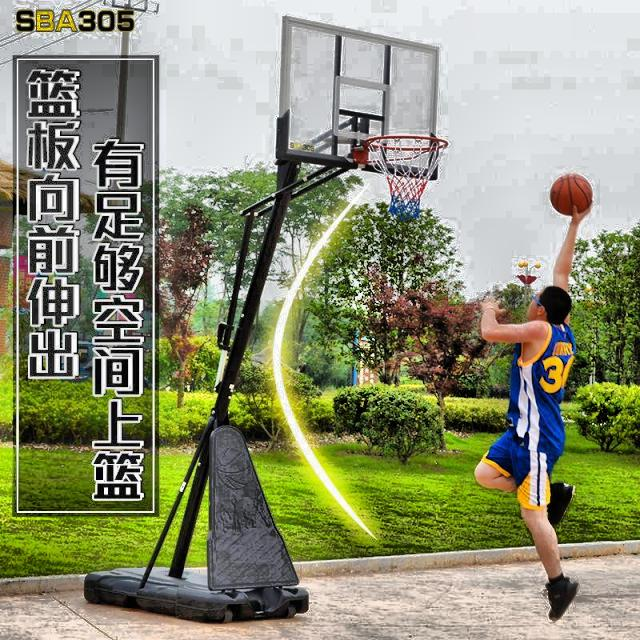board: (548, 173, 598, 216)
rim: (368, 133, 449, 222)
